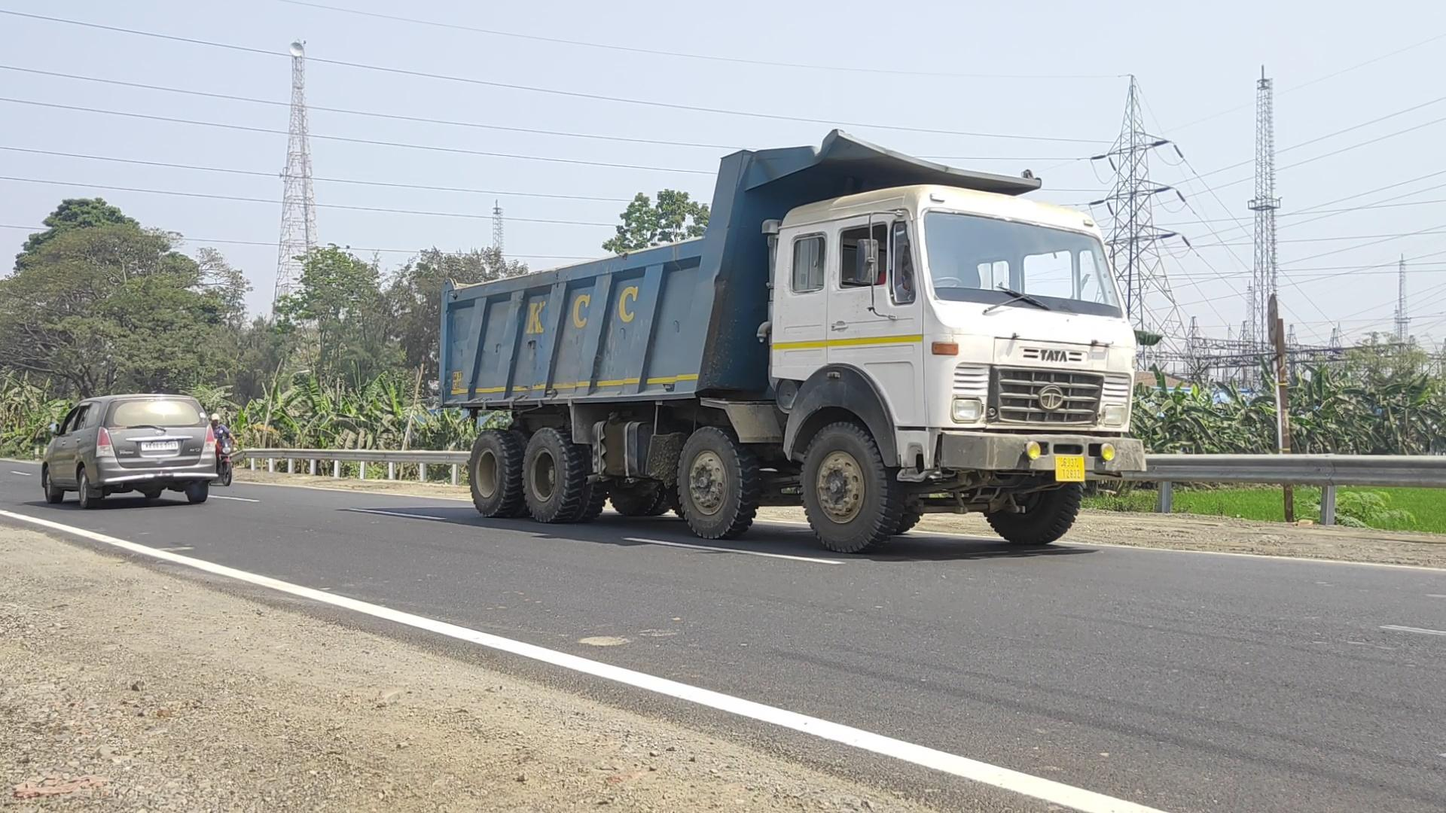bike: (204, 413, 240, 486)
car: (41, 393, 218, 509)
truck: (437, 130, 1148, 555)
